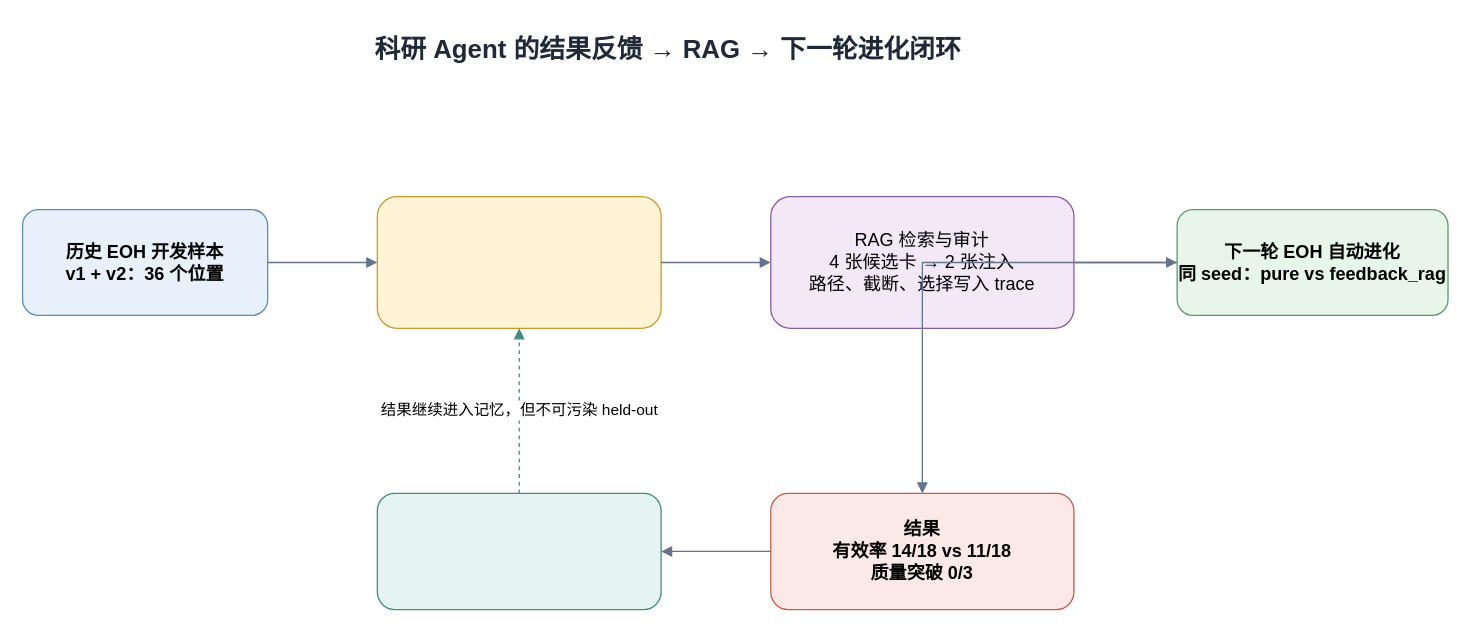
Some shapes in this 1471 by 632 pixel diagram are drawn without their labels. The shapes that lost their labels are listed below. From the top down, each one's box as (x1, y1, x2, y2) in pixels, then its label:
(376, 195, 661, 328): 确定性反馈记忆 无代码 / 合同有效 / objective 不读取 held-out
(376, 492, 661, 610): 自动决策 不扩正式实验 改做控制空间探针
